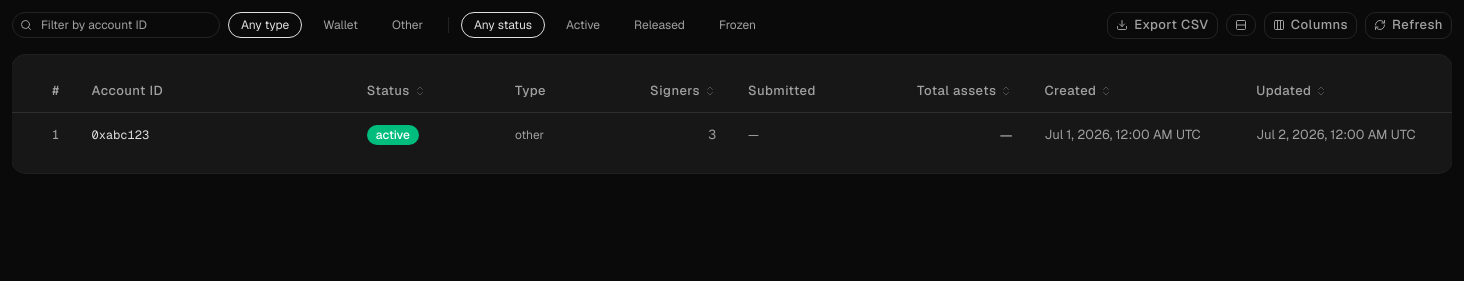
Test case: accounts table controls › does not offer the row number or the account id for hiding
The image size is (1464, 281).
Click the button "Columns" at (1310, 25), box [1264,12,1357,39]
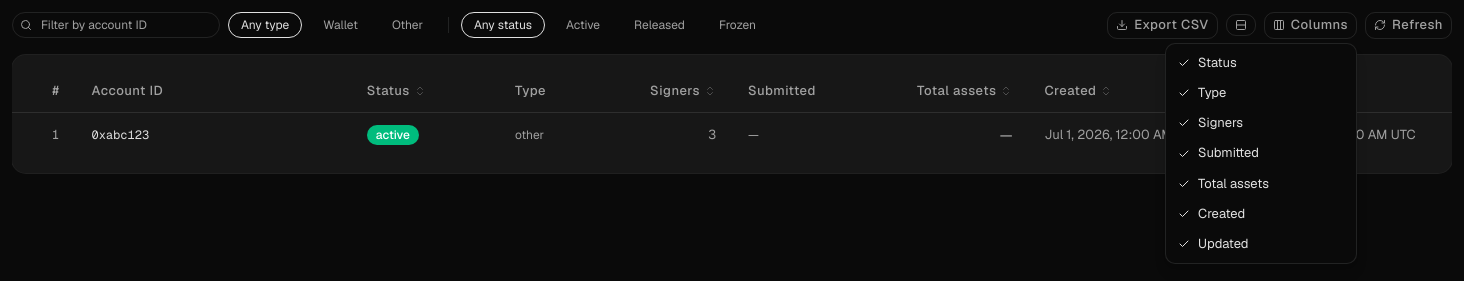
Expected: the number of menu items is 7
